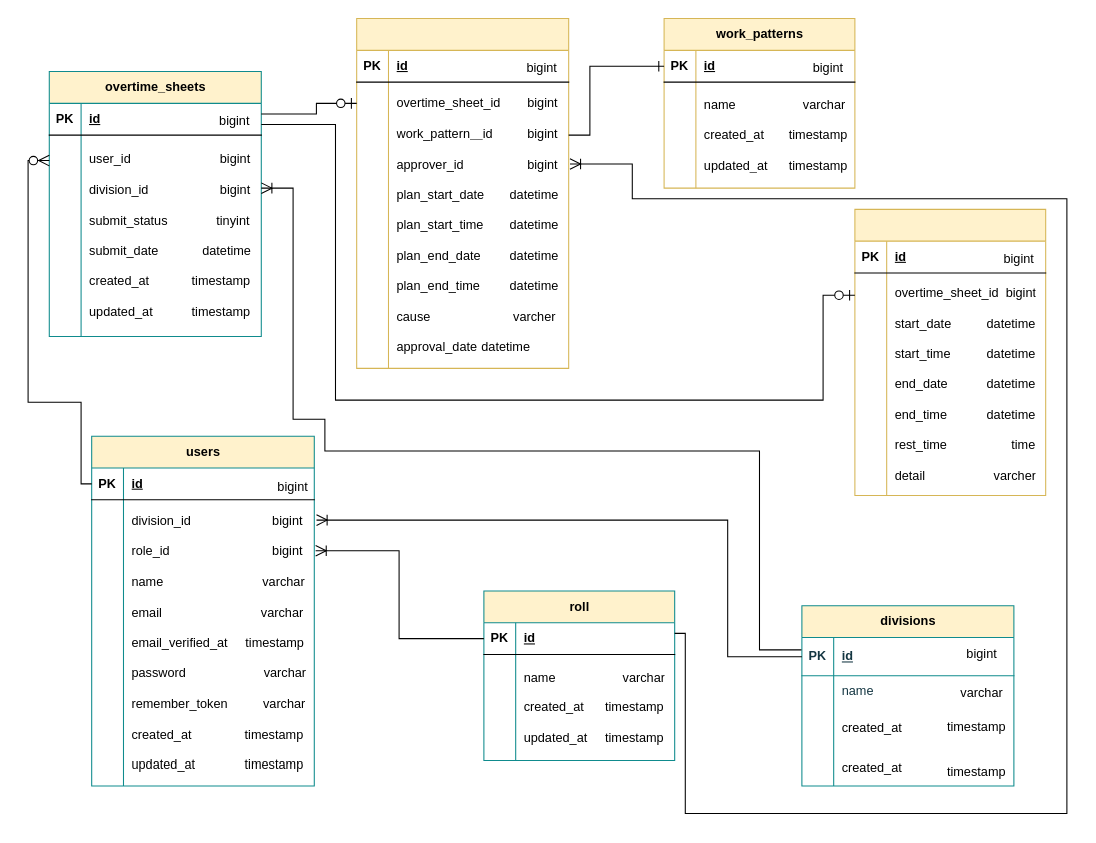
The diagram is 1096 pixels wide and 843 high, and some of its shapes have lost their labels. Here are the shapes that lost their labels. From the top down, the box of each, then its label:
(356, 17, 569, 368): overtime_requests
(854, 208, 1046, 496): overtime_reports
